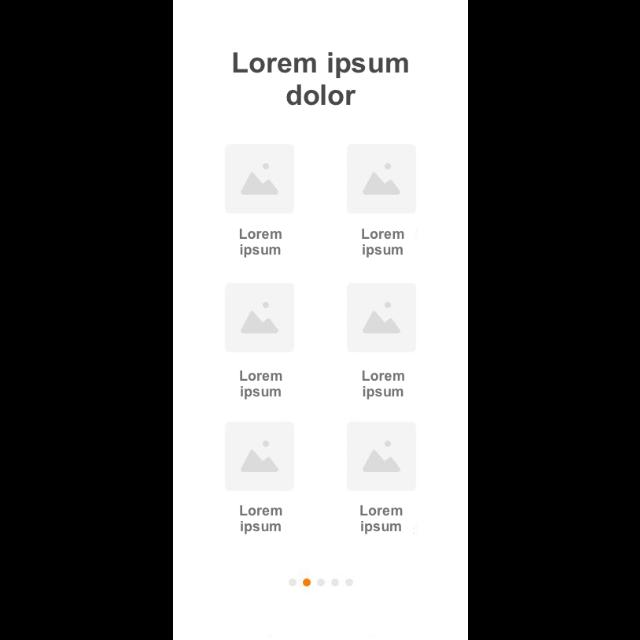image: (224, 144, 294, 214), (346, 144, 416, 214), (224, 283, 294, 353), (346, 283, 416, 353), (224, 422, 294, 492), (346, 422, 416, 492)
pageindicator: (288, 578, 354, 586)
text: (232, 52, 408, 108), (238, 370, 282, 400), (362, 370, 404, 400), (360, 505, 402, 535), (238, 230, 282, 258), (361, 230, 404, 258), (240, 506, 282, 534)
